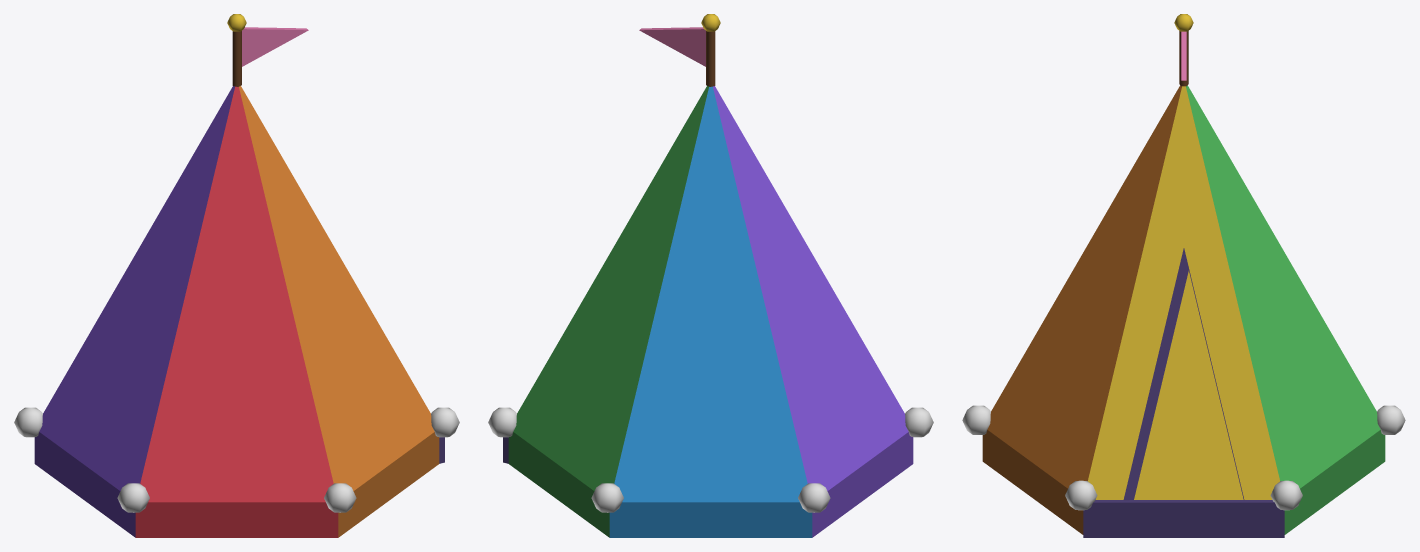
Rendered from carnival-hide.glb.
3 renders of one model, left to right at view 1: azimuth 30°, elevation 25°; view 2: azimuth 150°, elevation 25°; view 3: azimuth 270°, elevation 25°, orthographic.
Visible parts, largest first — view 1: carnival-hide; view 2: carnival-hide; view 3: carnival-hide.
Part boxes in pixels (x1,y1,x2,y2): carnival-hide: (14, 14, 459, 537); carnival-hide: (488, 14, 933, 537); carnival-hide: (962, 14, 1405, 537).
Bounding box in the file's own units: 1.18 × 1.52 × 1.36.
